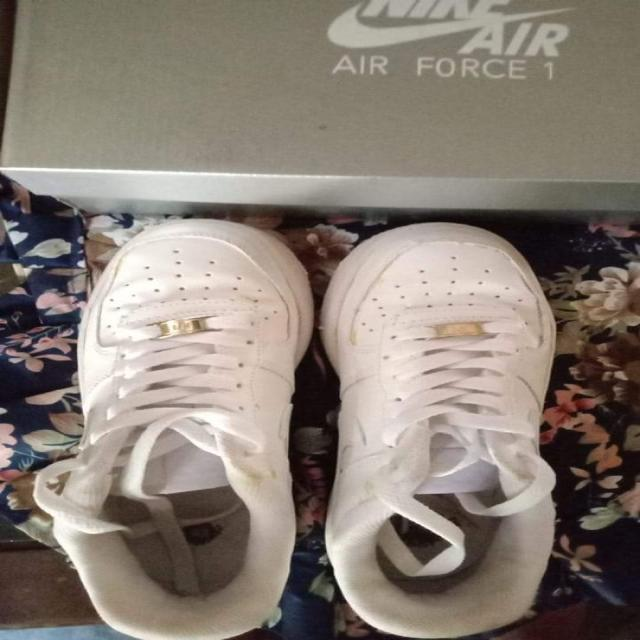nike fake air force: (44, 216, 319, 640), (316, 220, 563, 637)
